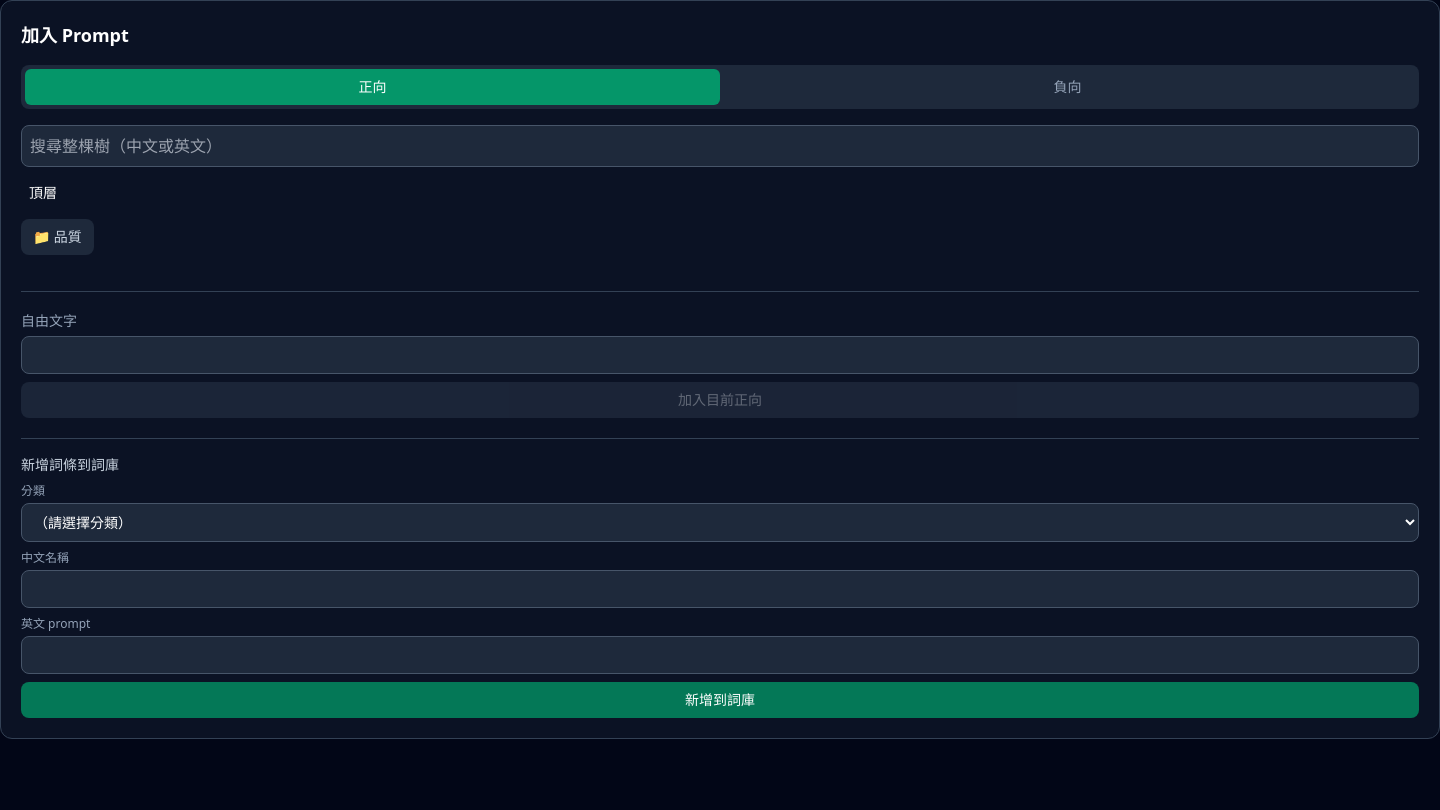
Test case: PromptEntryBrowser read-only source catalog › drills into a category, revealing its child folders and the breadcrumb path
The image size is (1440, 810).
Expected: the button "📁 細節" is not shown
Step 1. Click the button "📁 品質" → click(57, 237), box left=21, top=219, right=94, bottom=255
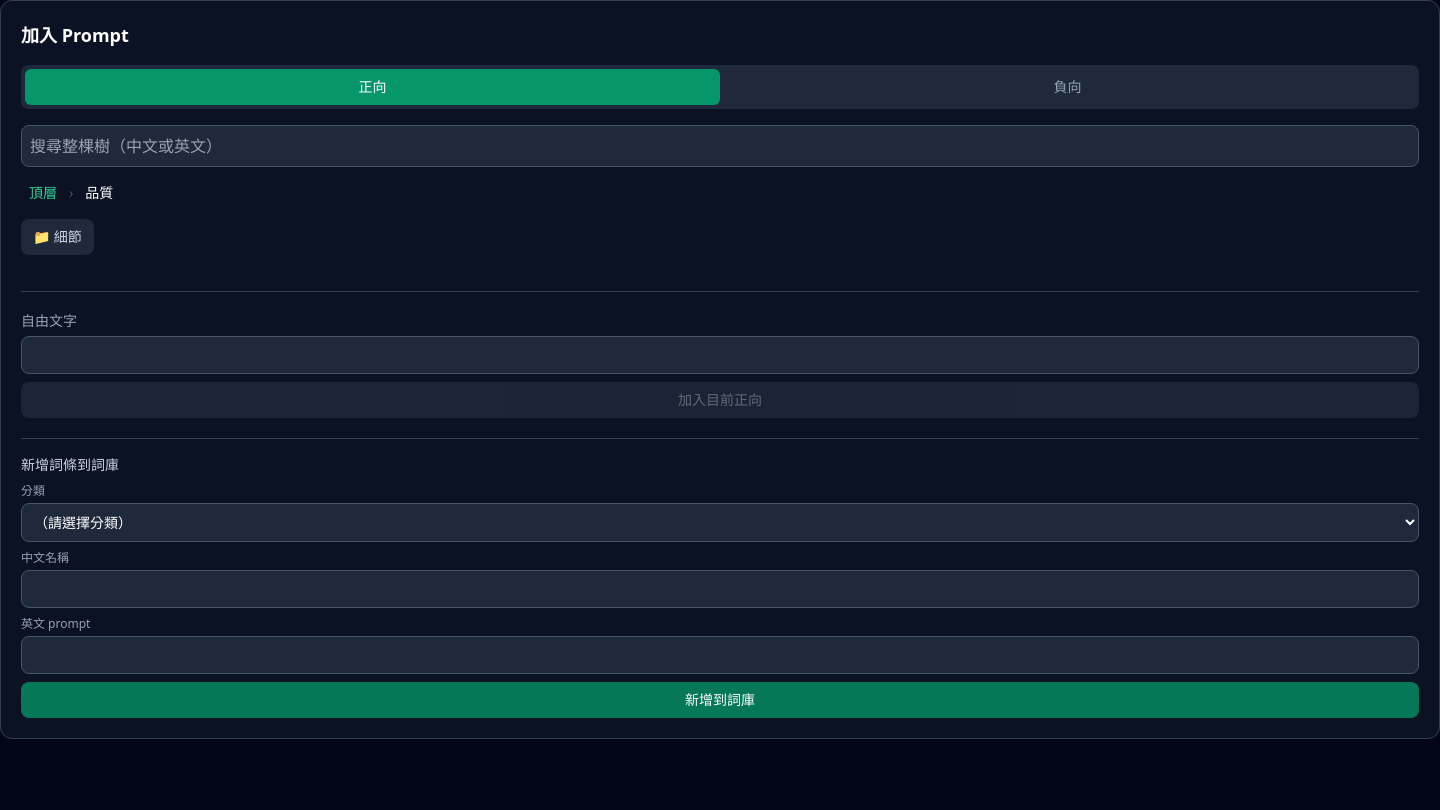
Expected: the button "頂層" is shown, left=21, top=179, right=65, bottom=207
Expected: the button "📁 細節" is shown, left=21, top=219, right=94, bottom=255
